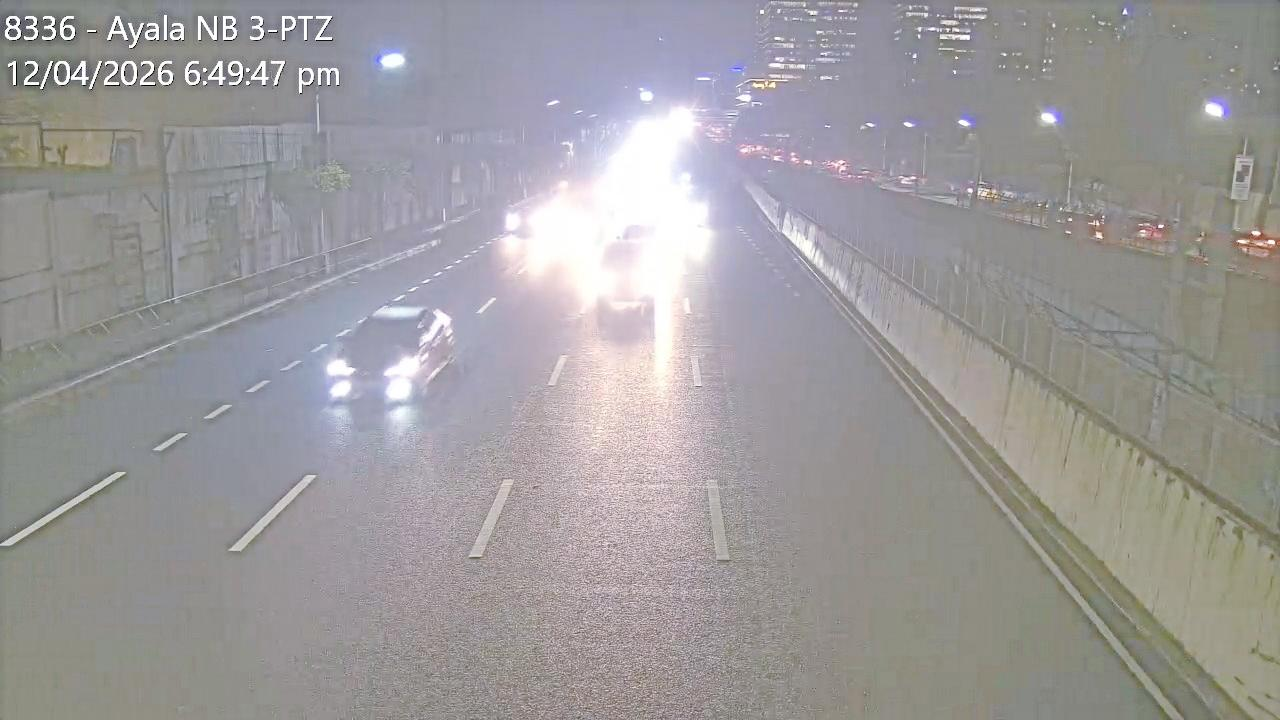Car: (323, 303, 454, 405), (595, 227, 663, 329), (501, 185, 568, 240)
